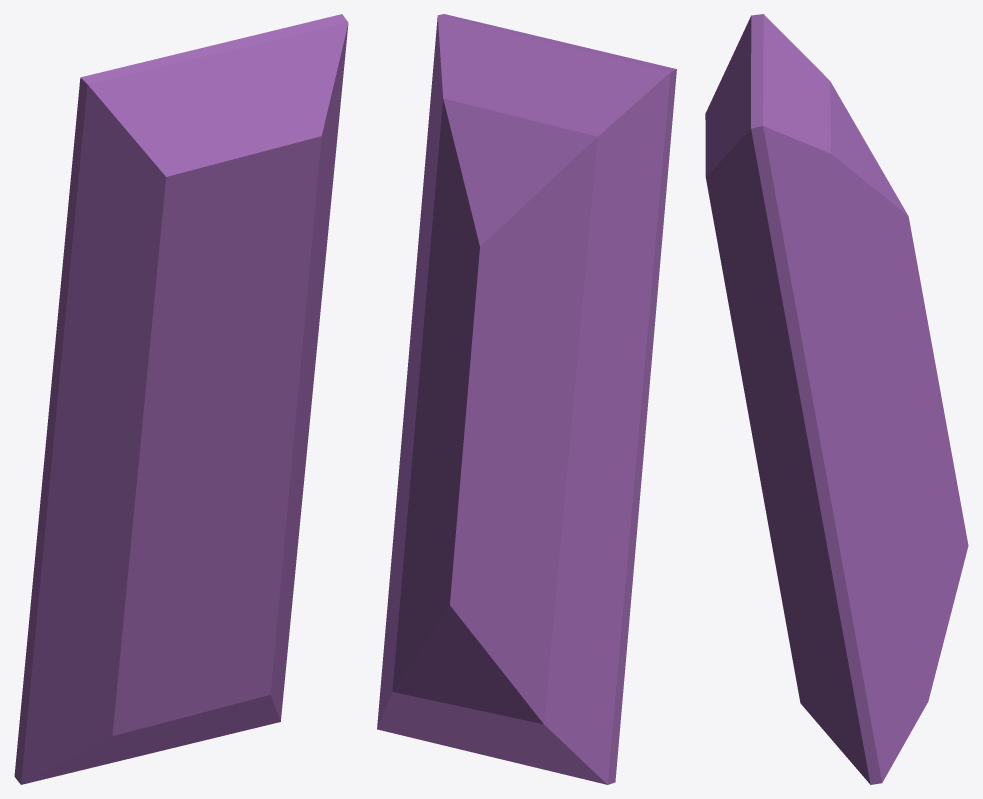
Rendered from BR1_Spacers_BaguetteStone.001 3.glb.
3 renders of one model, left to right at view 1: azimuth 30°, elevation 25°; view 2: azimuth 150°, elevation 25°; view 3: azimuth 270°, elevation 25°, orthographic. The views are drawn at different scales.
Visible parts, largest first — view 1: BR1_Spacers_BaguetteStone.001; view 2: BR1_Spacers_BaguetteStone.001; view 3: BR1_Spacers_BaguetteStone.001.
Boxes of the visible parts, x1,y1,x2,y2 form: BR1_Spacers_BaguetteStone.001: (14,14,348,784); BR1_Spacers_BaguetteStone.001: (377,14,676,784); BR1_Spacers_BaguetteStone.001: (705,14,968,784).
Size of the model in its own units: 0.2296 by 0.6315 by 0.2284.
